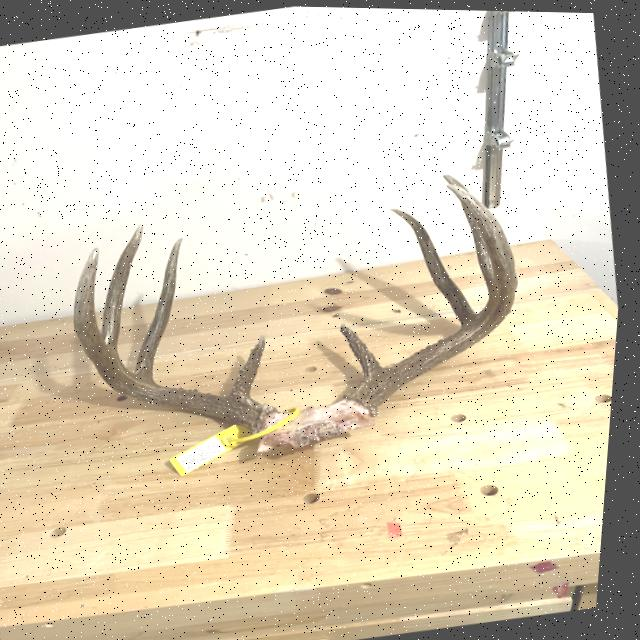L-F: (58, 309, 363, 430)
L-G1: (113, 299, 189, 338)
L-G2: (170, 323, 337, 402)
R-F: (47, 95, 316, 262)
R-G1: (97, 223, 182, 245)
R-G2: (132, 149, 319, 170)
R-G3: (171, 118, 342, 139)
